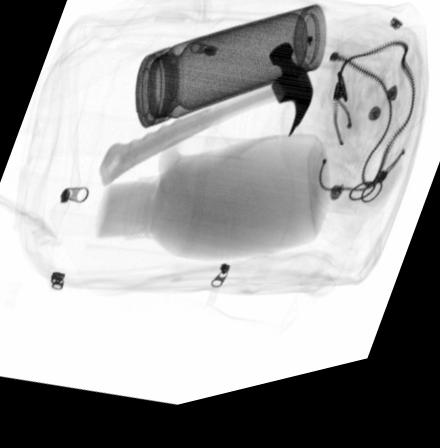Hammer: (96, 55, 313, 195)
